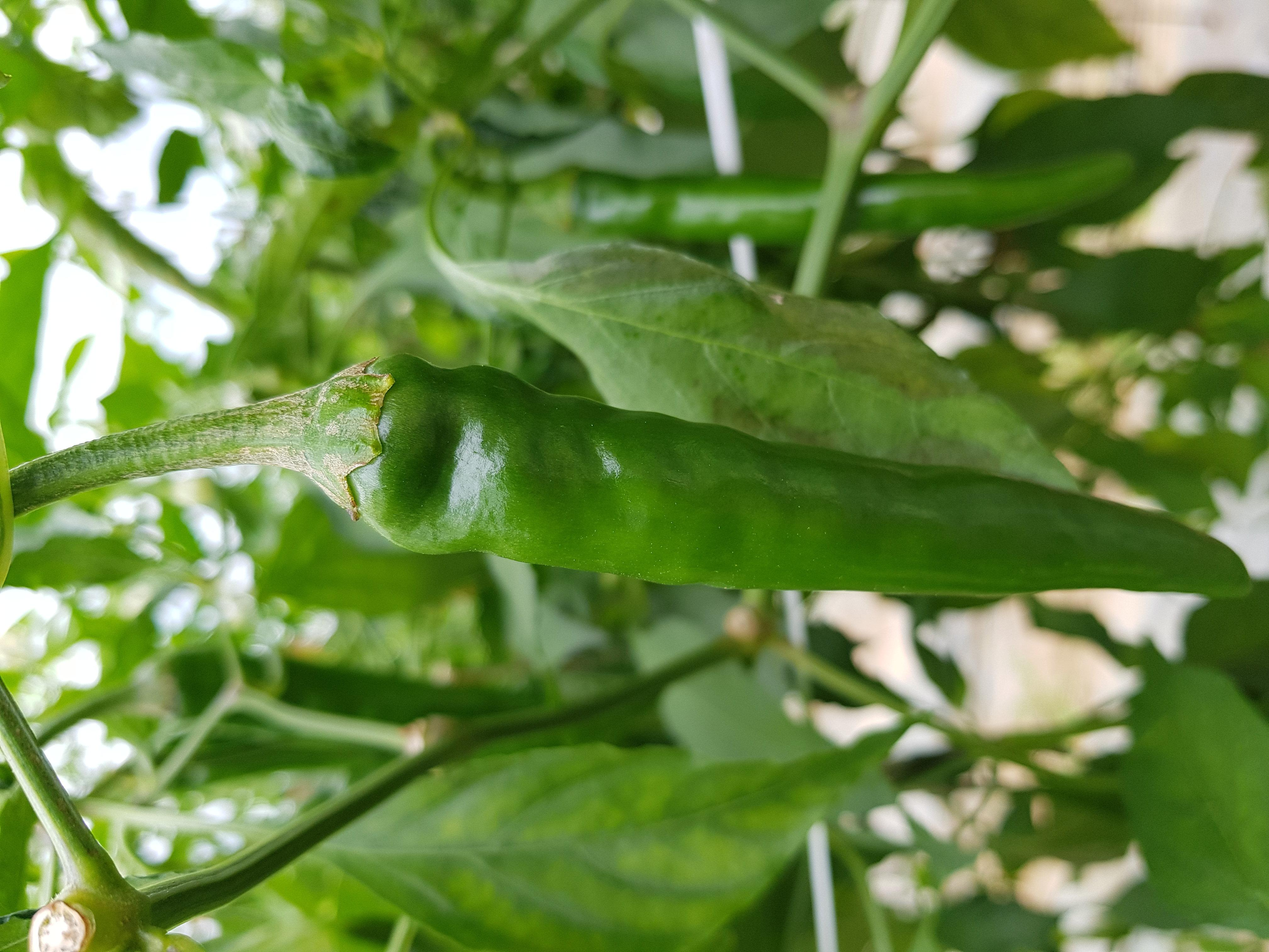Buah Cabai Sehat: (291, 344, 1269, 606)
